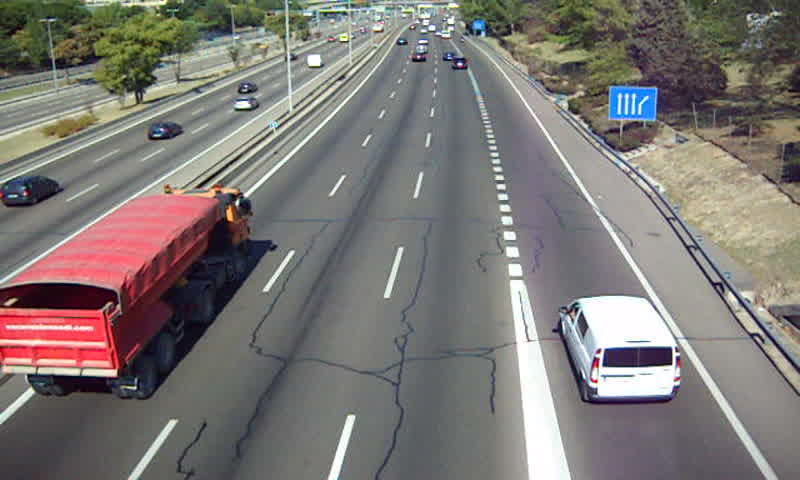car: (450, 58, 469, 71)
truck: (1, 187, 249, 399)
van: (558, 295, 680, 405)
